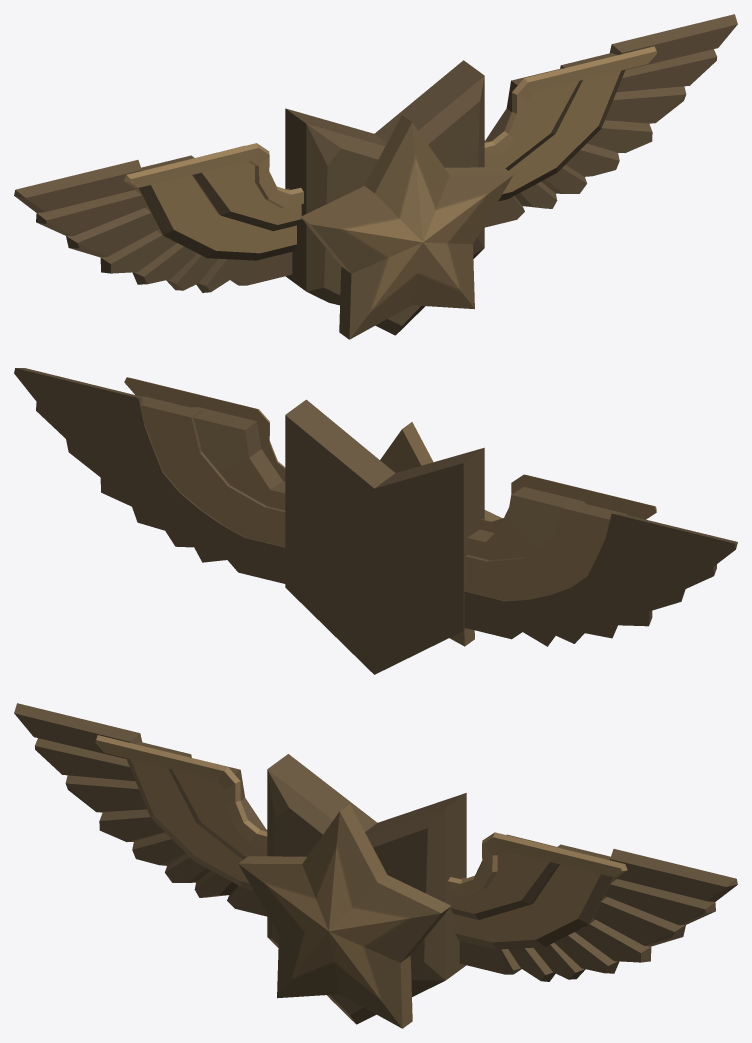
File: SM_Sign_Police_11.fbx
The picture shows the model from 3 angles, top to bottom: view 1: azimuth 30°, elevation 25°; view 2: azimuth 150°, elevation 25°; view 3: azimuth 330°, elevation 25°; orthographic projection.
Parts seen in each view (by area): view 1: SM_Sign_Police_11; view 2: SM_Sign_Police_11; view 3: SM_Sign_Police_11.
Part boxes in pixels (x1,y1,x2,y2): SM_Sign_Police_11: [14, 14, 737, 339]; SM_Sign_Police_11: [14, 368, 737, 674]; SM_Sign_Police_11: [14, 703, 737, 1028].
Bounding box in the file's own units: 381 × 120 × 44.56.
